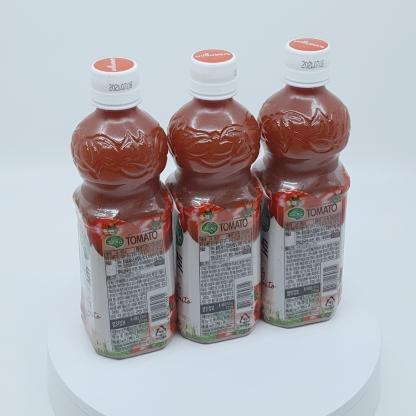--------500ML: (70, 56, 178, 360), (250, 37, 351, 329), (163, 48, 262, 345)
